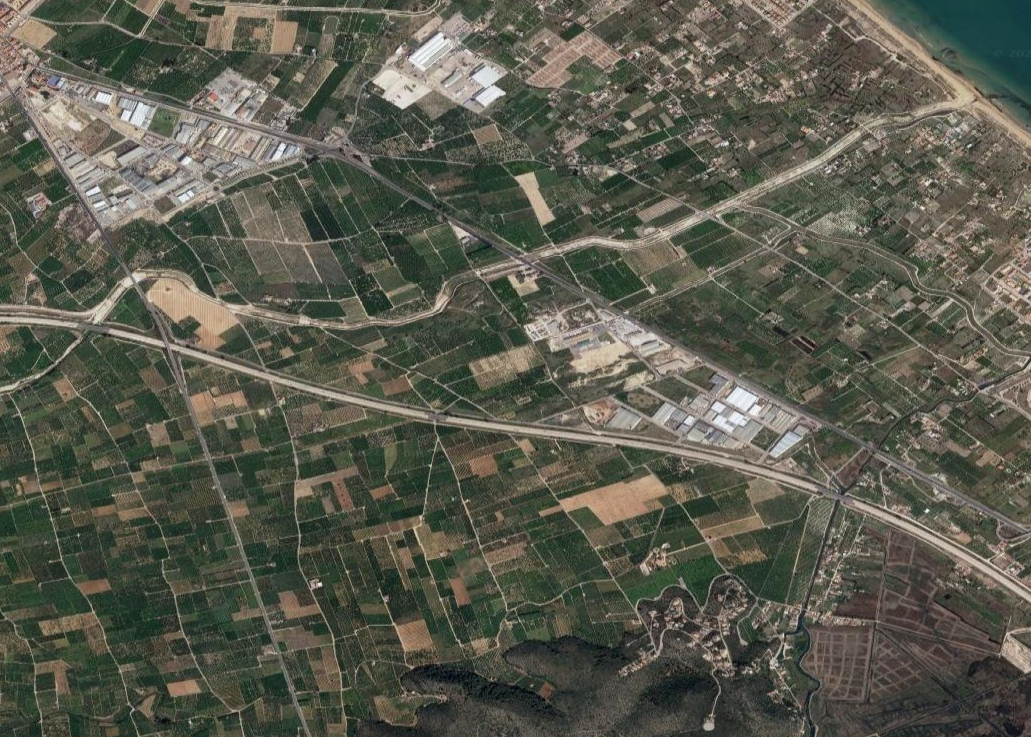bridge: (153, 326, 182, 365)
industrial: (34, 70, 264, 239), (630, 354, 811, 462), (371, 17, 502, 120)
motorway: (883, 515, 1031, 603), (711, 359, 826, 424), (596, 300, 711, 365), (480, 234, 595, 299), (366, 168, 481, 233), (913, 471, 1031, 530), (252, 118, 370, 174), (637, 436, 773, 476), (773, 472, 882, 520), (230, 360, 357, 401), (109, 322, 226, 366), (824, 418, 913, 473), (495, 422, 634, 454), (357, 399, 495, 431), (1, 303, 109, 336)
